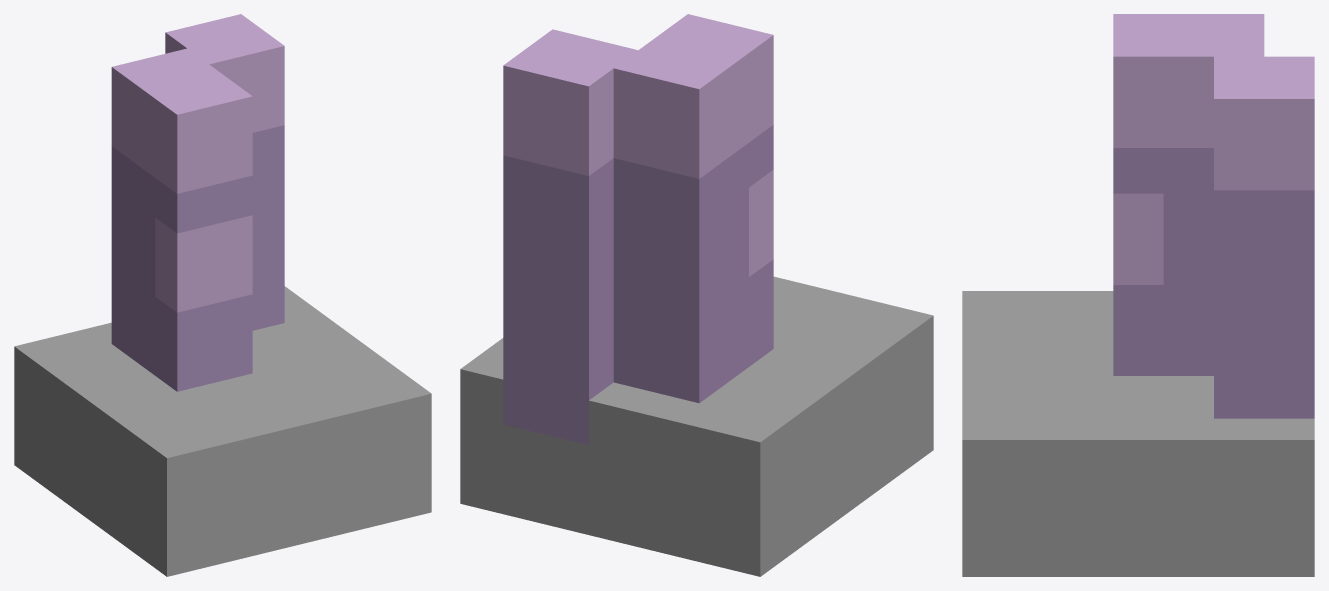
File: amatista_02.glb
The picture shows the model from 3 angles, left to right: view 1: azimuth 30°, elevation 25°; view 2: azimuth 150°, elevation 25°; view 3: azimuth 270°, elevation 25°; orthographic projection. The views are drawn at different scales.
Visible parts, largest first — view 1: amatista_02; view 2: amatista_02; view 3: amatista_02.
Boxes of the visible parts, x1,y1,x2,y2 form: amatista_02: (14,14,431,576); amatista_02: (460,14,933,576); amatista_02: (962,14,1314,576).
Bounding box in the file's own units: 0.7 × 1 × 0.7.
